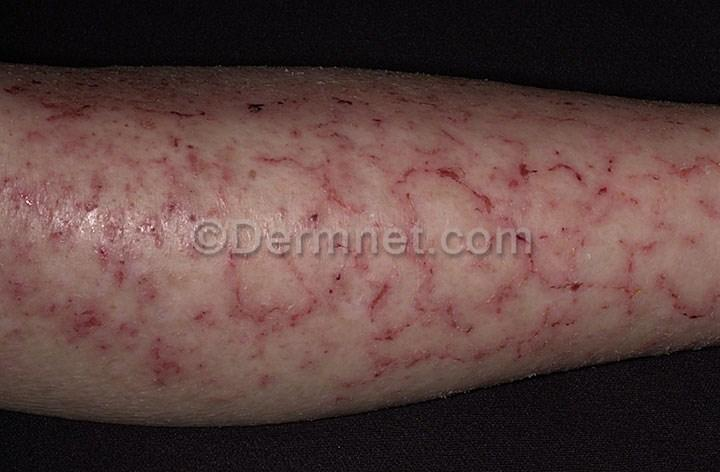Eczema: (139, 293, 463, 412), (89, 97, 351, 190), (438, 85, 629, 203)
